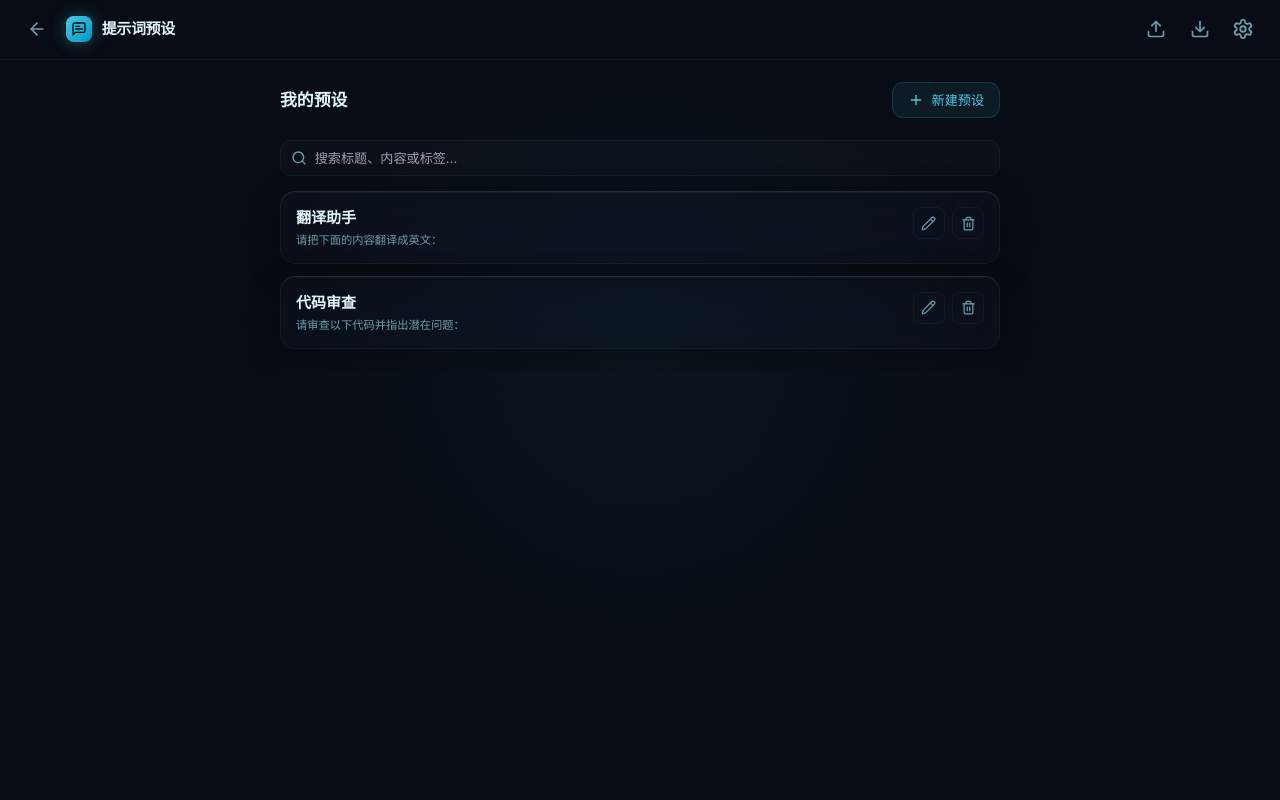
it: PromptPresetsPage create form › exposes the form controls and enforces title/content maxLength (Req 3.1/3.8/3.9)
This screenshot has width=1280, height=800.
Step 1. Click the button "新建预设" → coordinates (946, 100), box x1=892 y1=82 x2=1000 y2=118
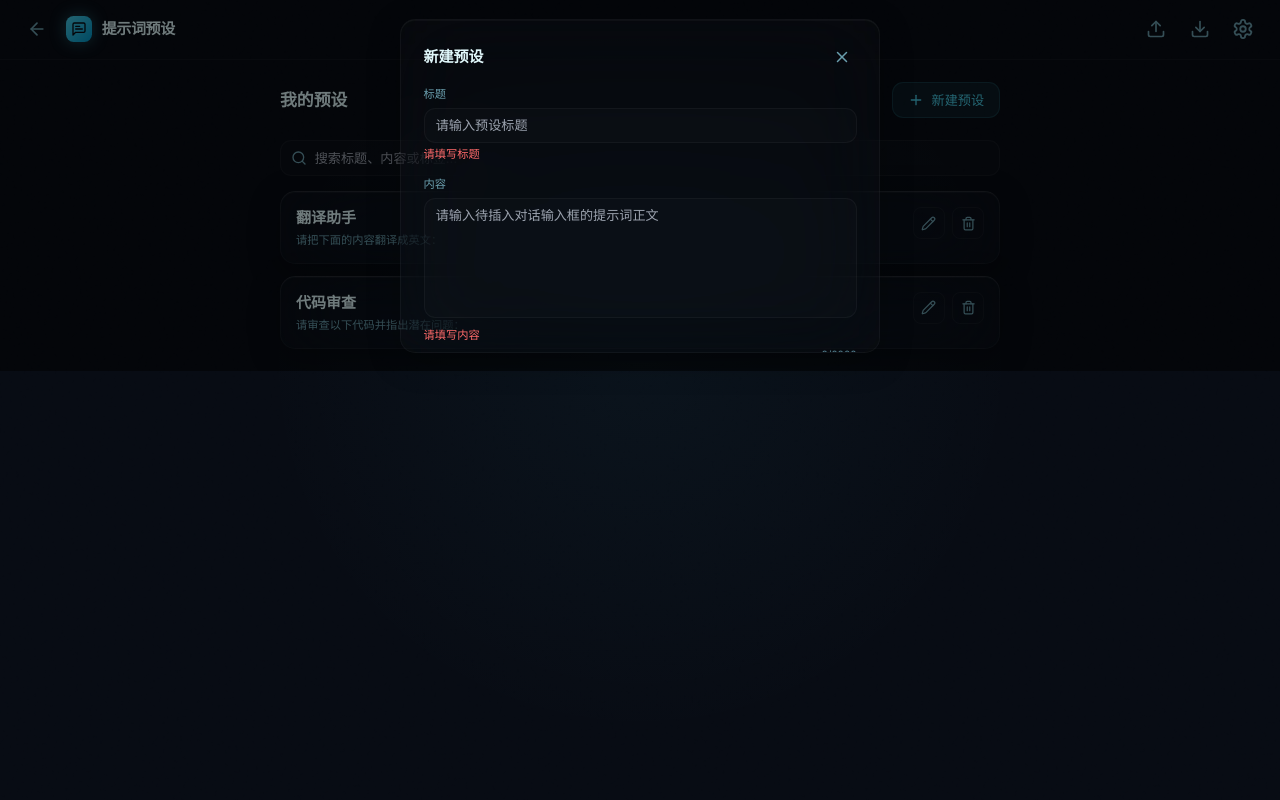
Expected: the field labelled "预设标题" is shown, x1=424 y1=108 x2=856 y2=144
Expected: the text box named "预设内容" is shown, x1=424 y1=198 x2=856 y2=318
